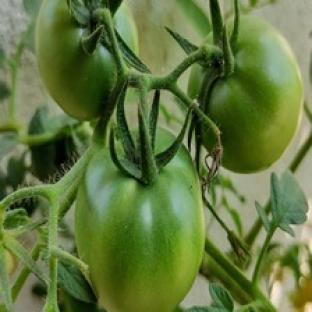Tomato: (76, 147, 204, 311), (202, 17, 303, 172), (5, 250, 18, 275)
